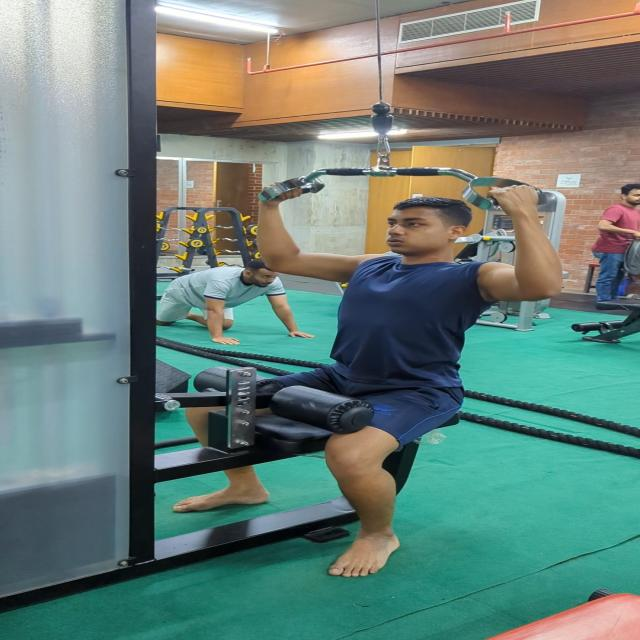Normal_LatPulldown: (169, 170, 581, 587)
